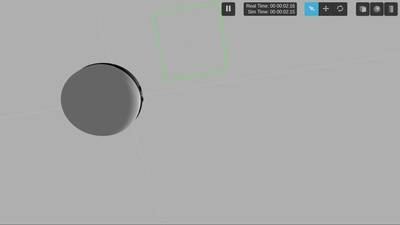mira_robot: (62, 63, 144, 137)
